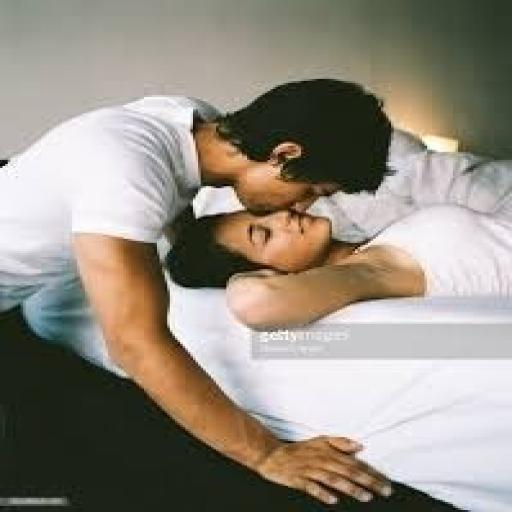sleeping: (0, 75, 401, 510)
